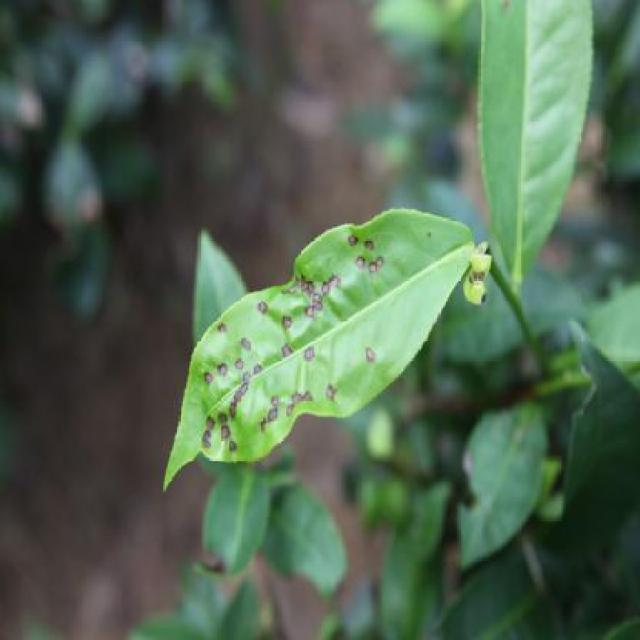Tea Mosquito bug infested leaf: (158, 211, 497, 457)
